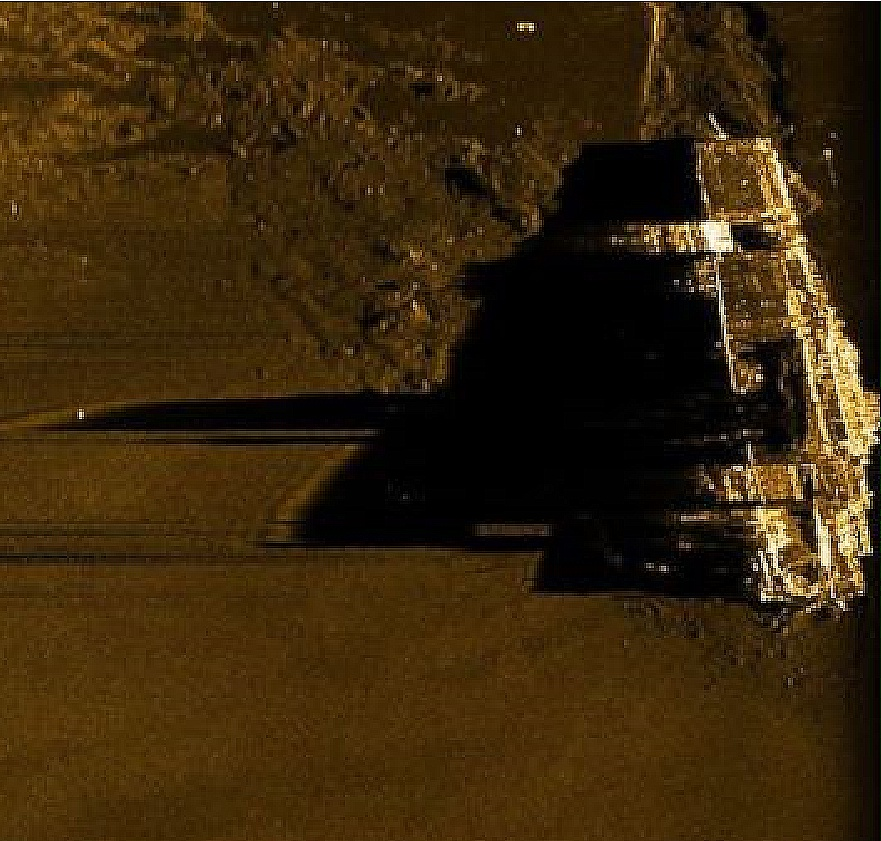ship: (603, 109, 881, 620)
